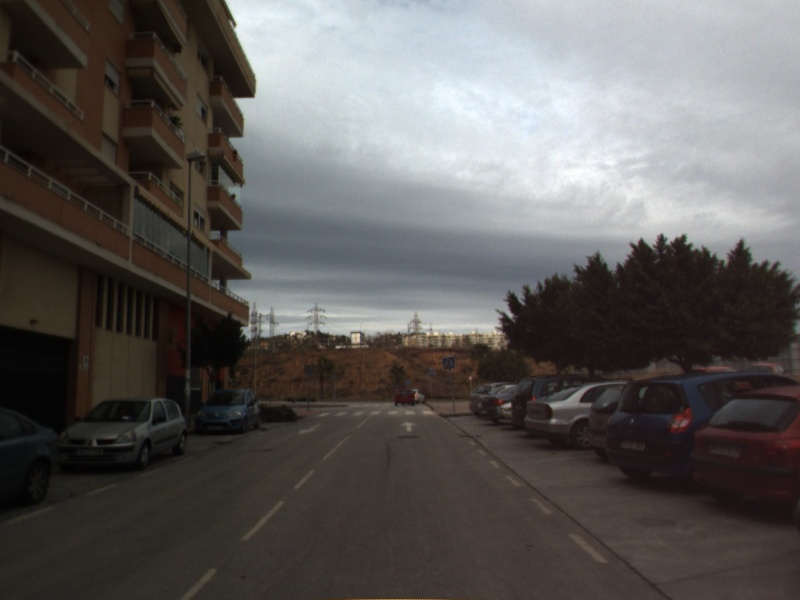STRAIGHT: (398, 419, 420, 434)
